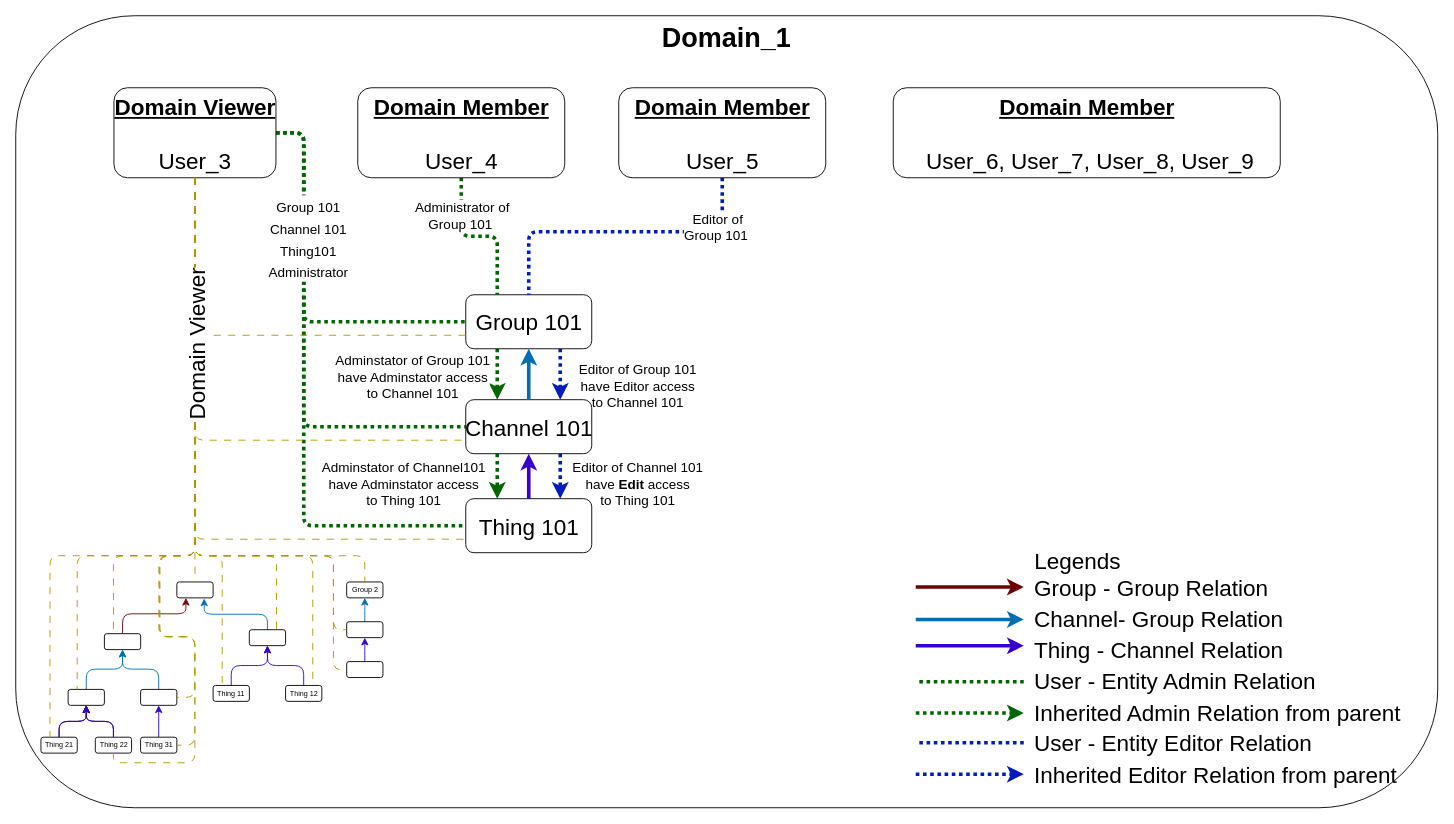
Image size: 1454x824. Some labels were removed from this diagram. The centre of each missing label's shape, as x and y in pixels:
"Channel 1" goes at [267,637].
"Channel 2" goes at [85,696].
"Channel 3" goes at [158,696].
"Channel 4" goes at [364,629].
"Group 1" goes at [194,589].
"Group 12" goes at [122,641].
"Thing 41" goes at [364,669].
